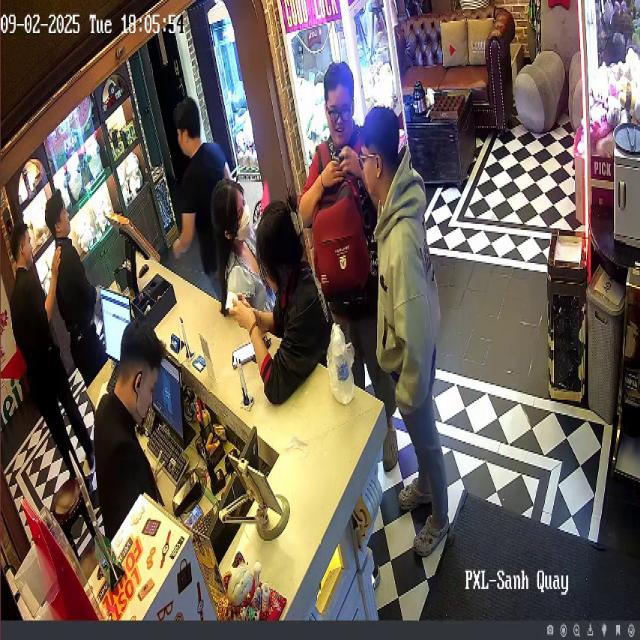khach: (357, 103, 451, 555), (304, 59, 397, 464), (254, 197, 333, 410), (163, 83, 235, 309), (208, 169, 266, 349)
nhan vien: (6, 206, 95, 494), (92, 312, 182, 566), (36, 184, 104, 397)
